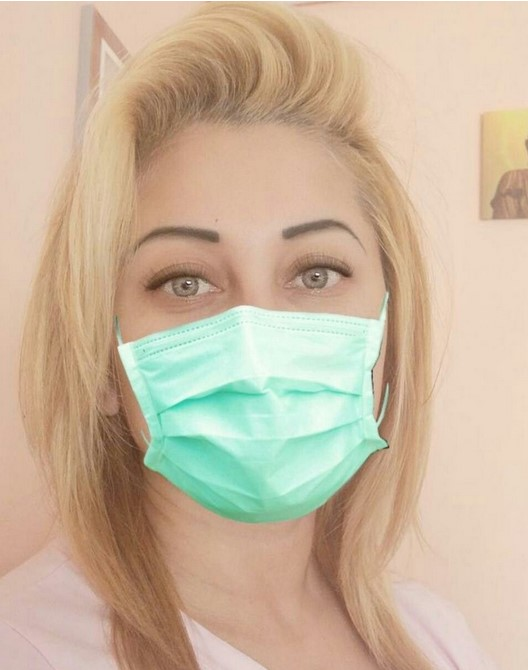face_with_mask: (95, 106, 423, 528)
